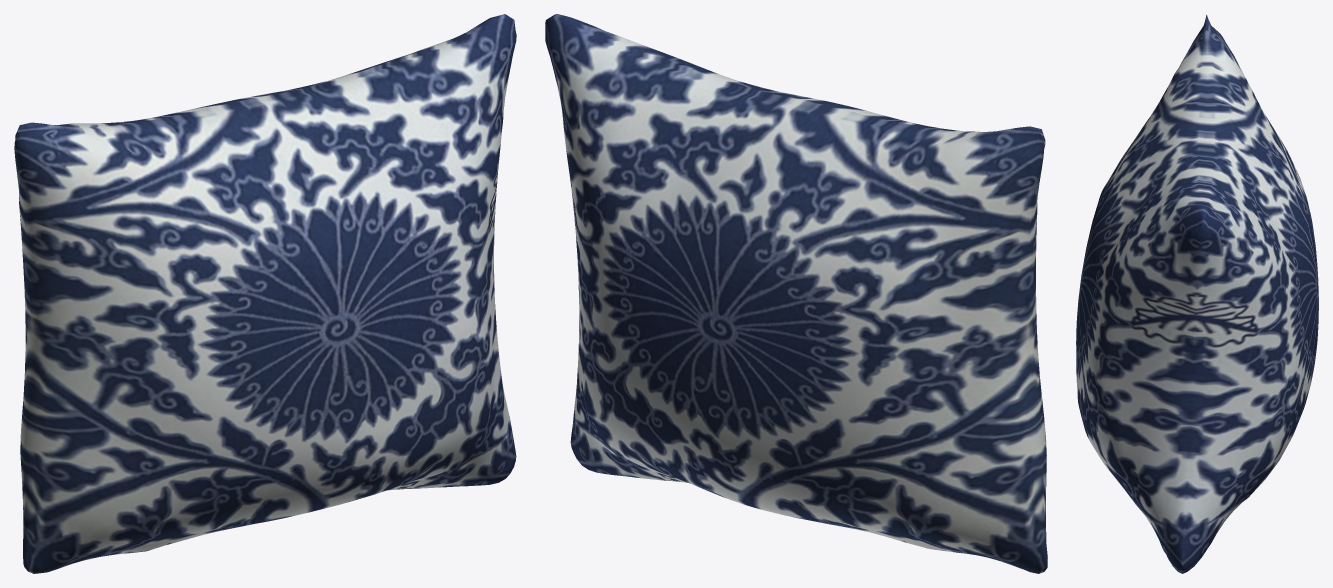
The picture shows the model from 3 angles, left to right: view 1: azimuth 30°, elevation 25°; view 2: azimuth 150°, elevation 25°; view 3: azimuth 270°, elevation 25°; orthographic projection. The views are drawn at different scales.
Visible parts, largest first — view 1: Object_2; view 2: Object_2; view 3: Object_2.
Boxes of the visible parts, x1,y1,x2,y2 form: Object_2: (14, 14, 516, 573); Object_2: (545, 14, 1047, 573); Object_2: (1076, 14, 1318, 573).
Size of the model in its own units: 14.94 by 13.2 by 7.75.
Materials: 1 (1 with a texture image).
